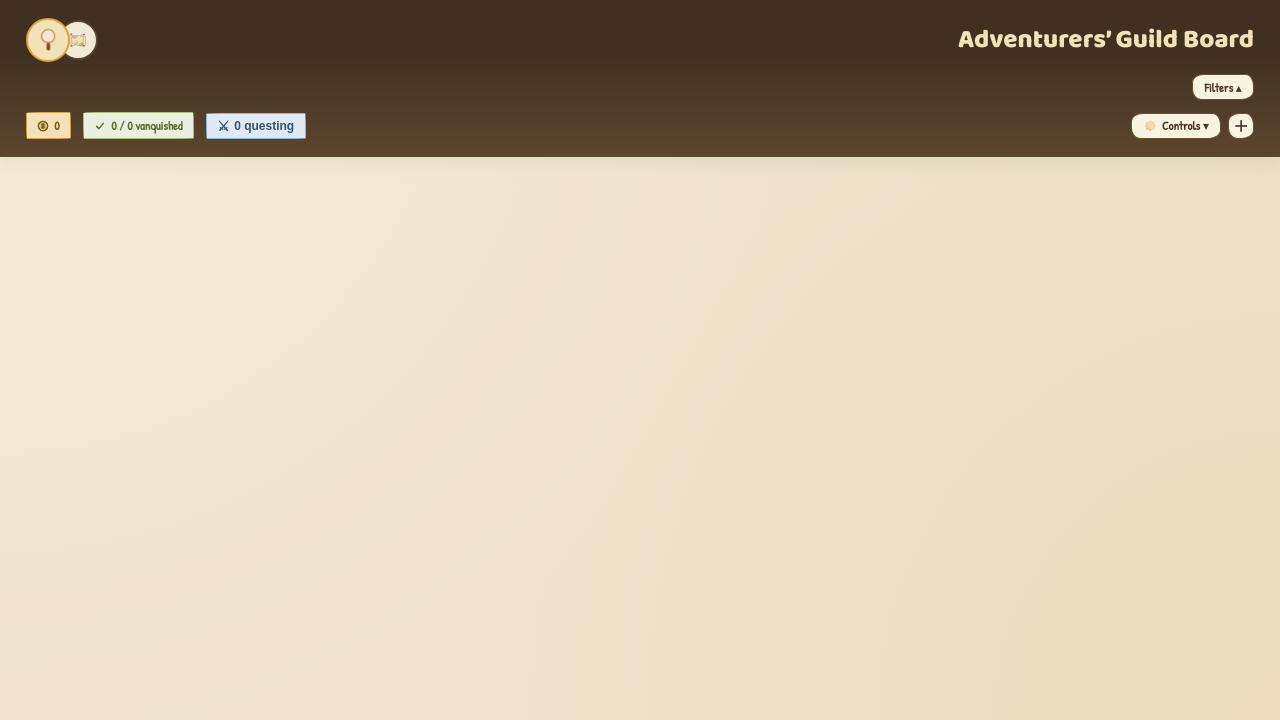
Test: <TopBar/> mobile Controls toggle (WF-085) › clicking the toggle expands the group, flips aria-expanded, and surfaces every collapsed control
Click the button "Controls ▾" at (1176, 126), box [1131, 113, 1221, 139]
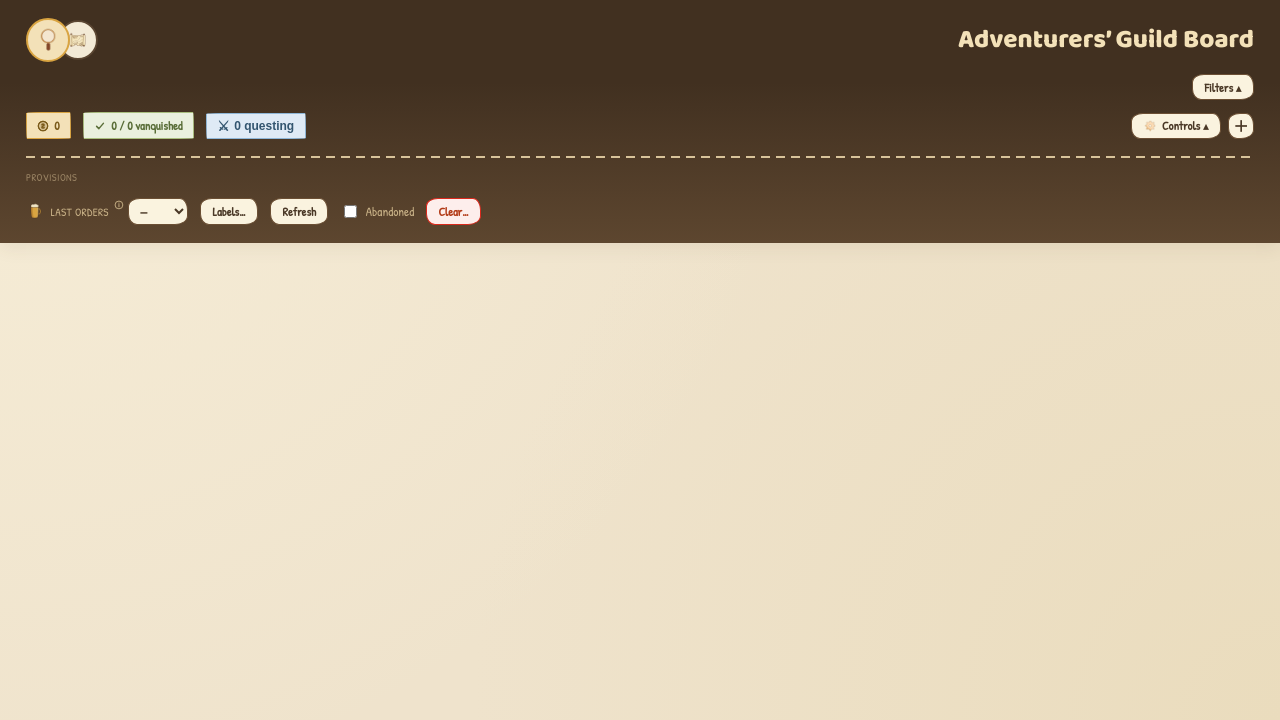
expect the button "Clear…" is shown: met, box [426, 198, 481, 225]
expect the button "Labels…" is shown: met, box [200, 198, 258, 225]
expect the button "Refresh" is shown: met, box [270, 198, 328, 225]
